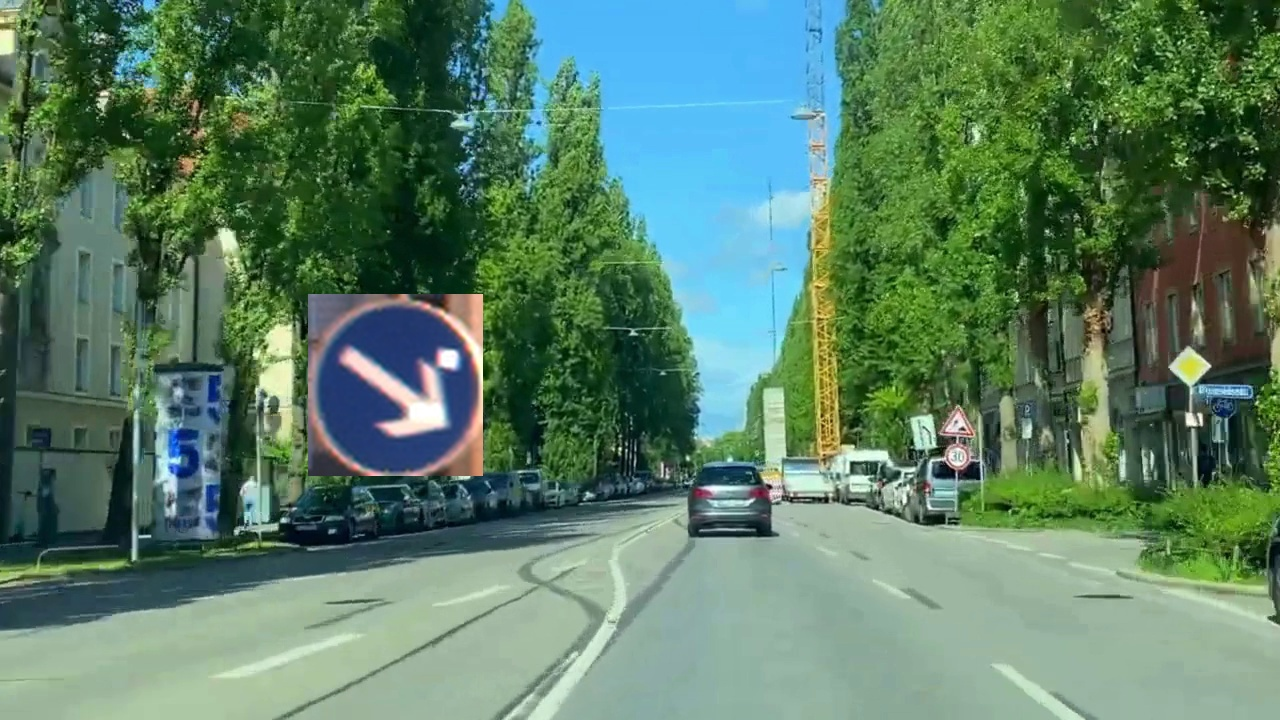Keep right: (308, 294, 483, 476)
